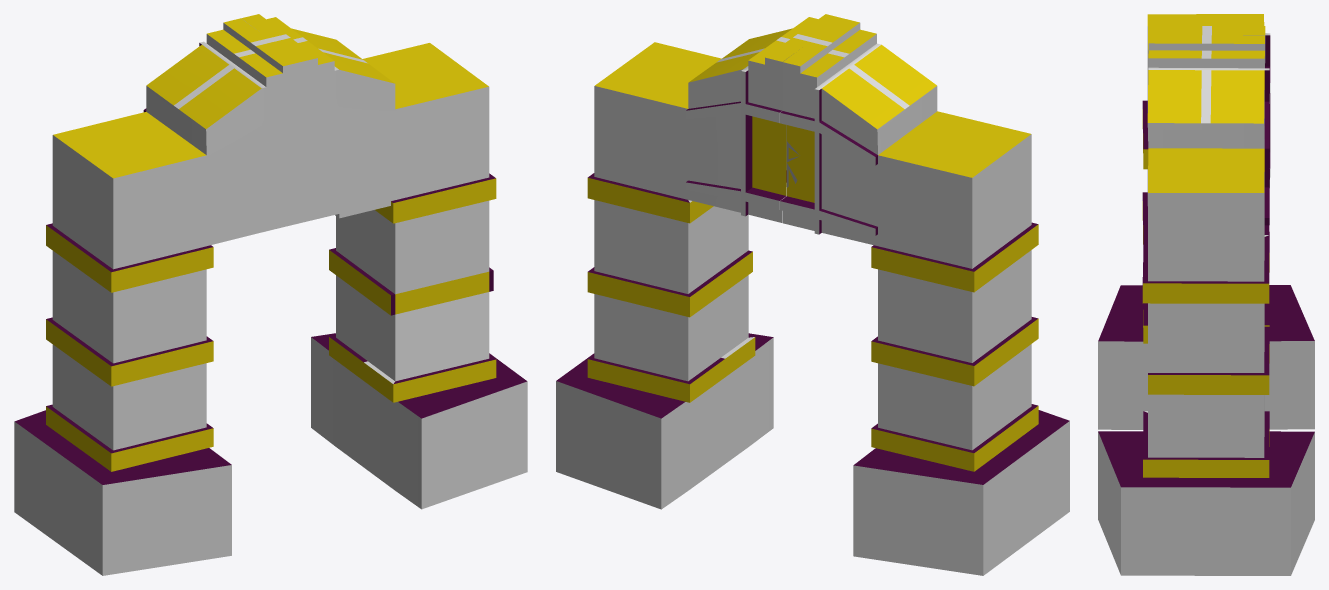
Rendered from Arch.fbx.
3 views of the same model, side by side, from view 1: azimuth 30°, elevation 25°; view 2: azimuth 150°, elevation 25°; view 3: azimuth 270°, elevation 25° (orthographic). The views are drawn at different scales.
Visible parts, largest first — view 1: pCube1; view 2: pCube1; view 3: pCube1.
Boxes of the visible parts, x1,y1,x2,y2 form: pCube1: [14, 14, 527, 575]; pCube1: [556, 14, 1069, 575]; pCube1: [1098, 14, 1314, 575].
Size of the model in its own units: 5.47 by 5.53 by 2.47.
